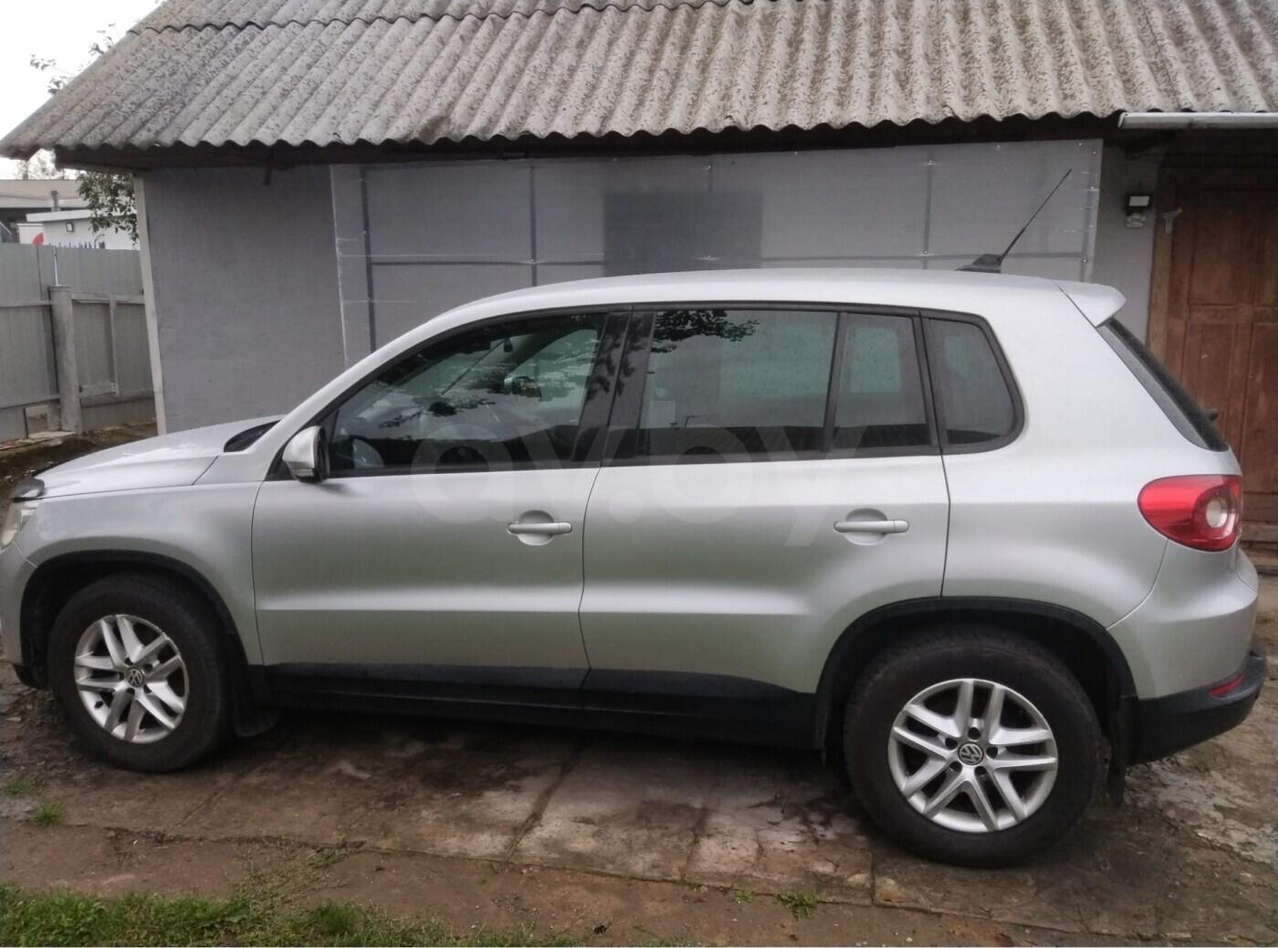Tiguan_2007-2011: (0, 251, 1266, 877)
